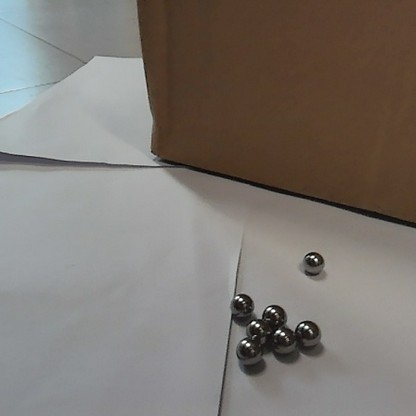ironball: (234, 338, 264, 368), (271, 325, 296, 359), (294, 318, 322, 348), (259, 301, 286, 330), (229, 292, 256, 319), (244, 318, 269, 346), (301, 249, 324, 276)
